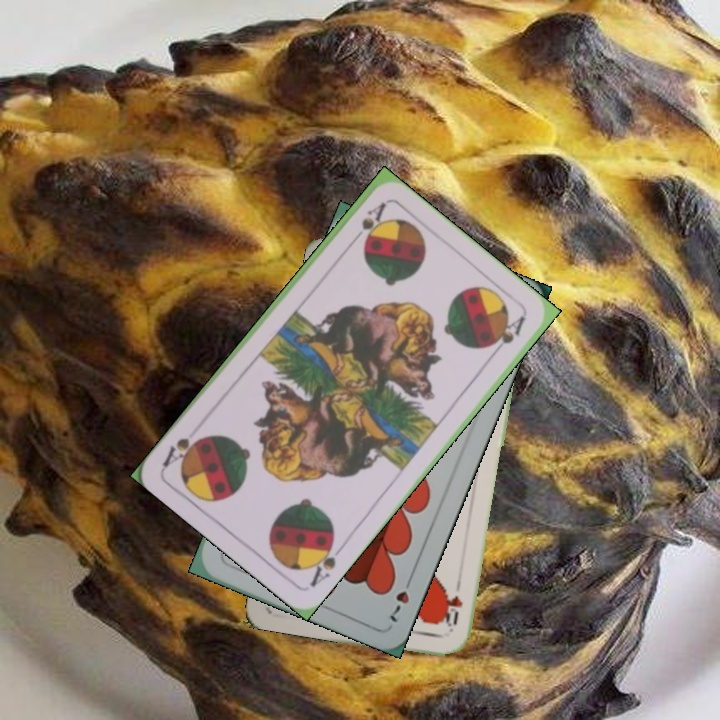H7: (384, 570, 417, 625)
HO: (438, 576, 466, 635)
SA: (304, 534, 347, 590), (345, 198, 389, 248)
